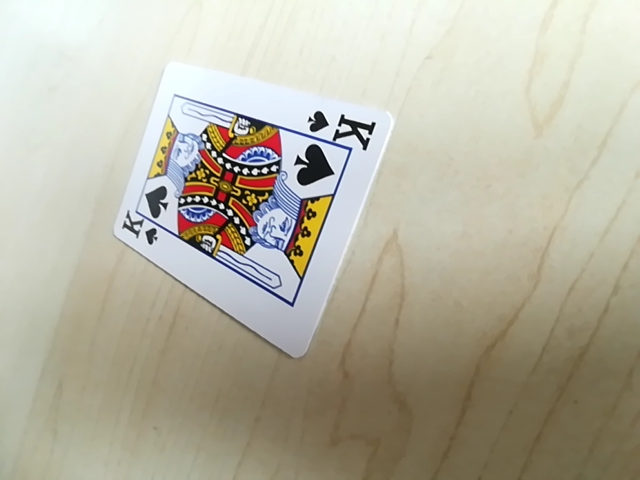ht k: (297, 105, 379, 145), (117, 216, 164, 249)
